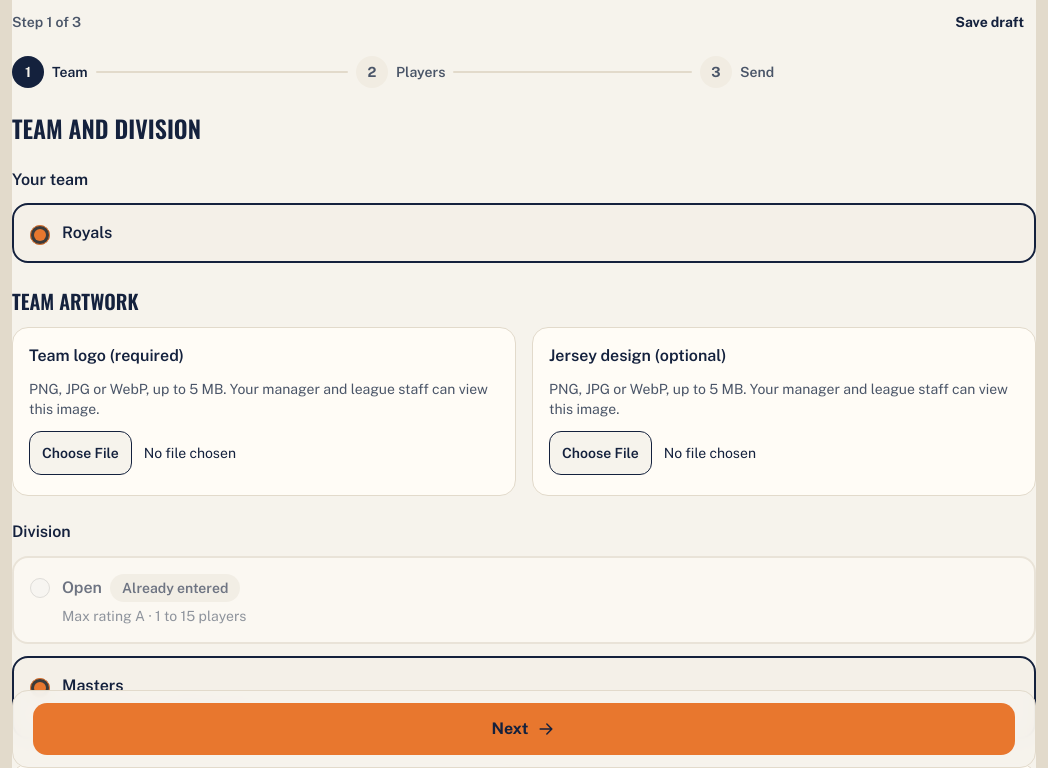
Test: building the roster › does not offer a player who is on another team in this division
The width and height of the screenshot is (1048, 768).
What coordinates should you click on to do the following:
click the button "Next"
I would click on:
 (524, 729)
Its box is [33,703,1015,755].
(page scrolled)
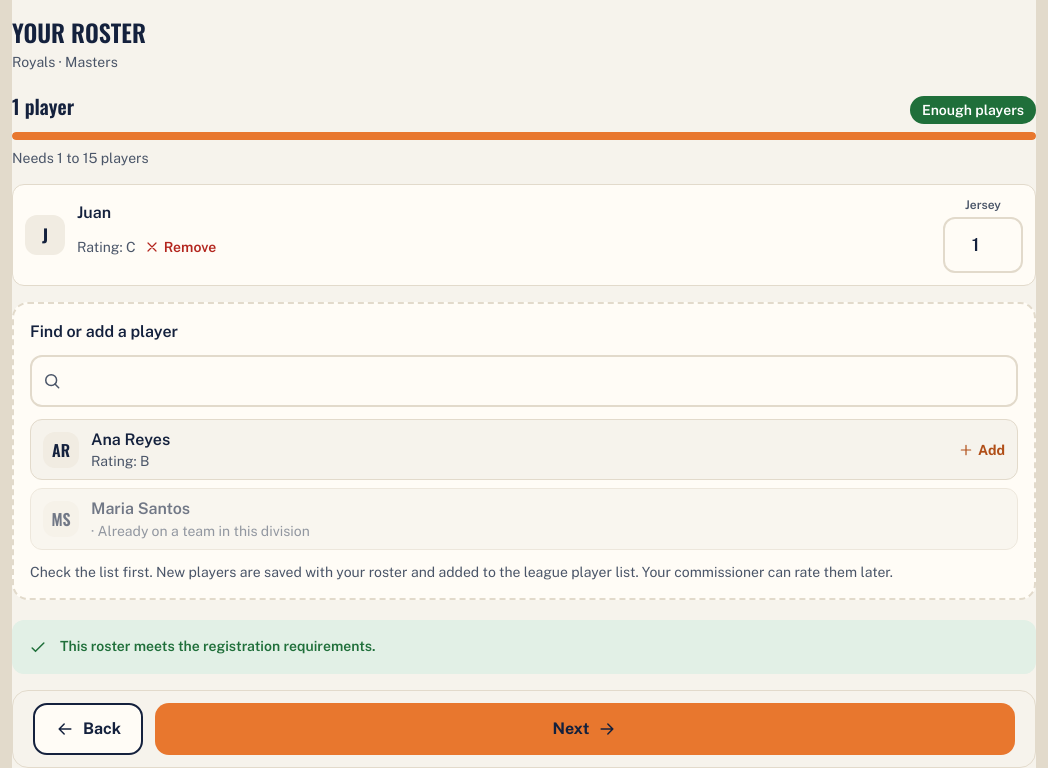
Check: the heading "Your roster" is shown, box [12,14,146,50]
Check: the button with aria-label "Add Maria Santos" is disabled, box [30,488,1018,550]
